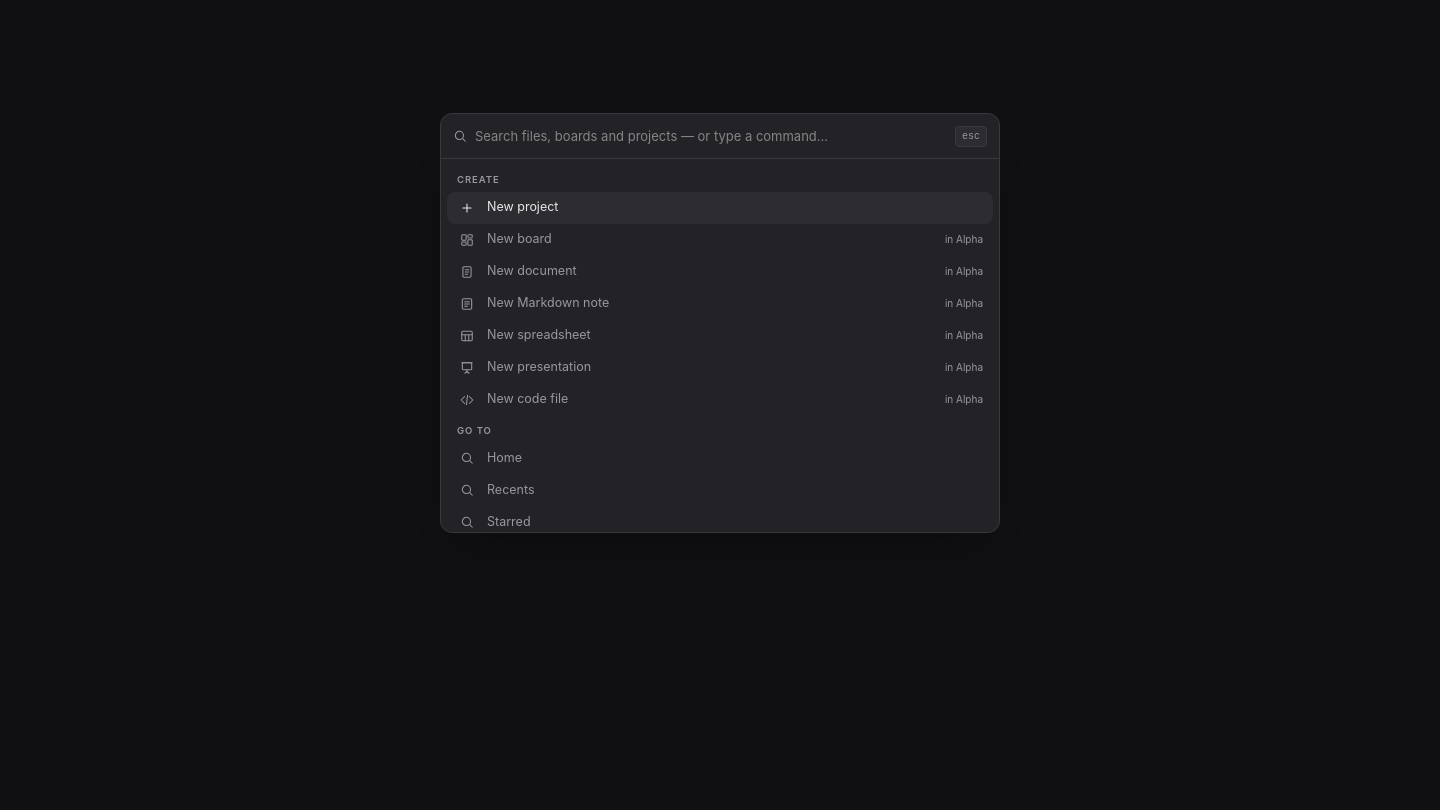
it: search is global › names the project each result lives in
The image size is (1440, 810).
Type "budget there" into the field at (711, 136), box [475,114,947,158]
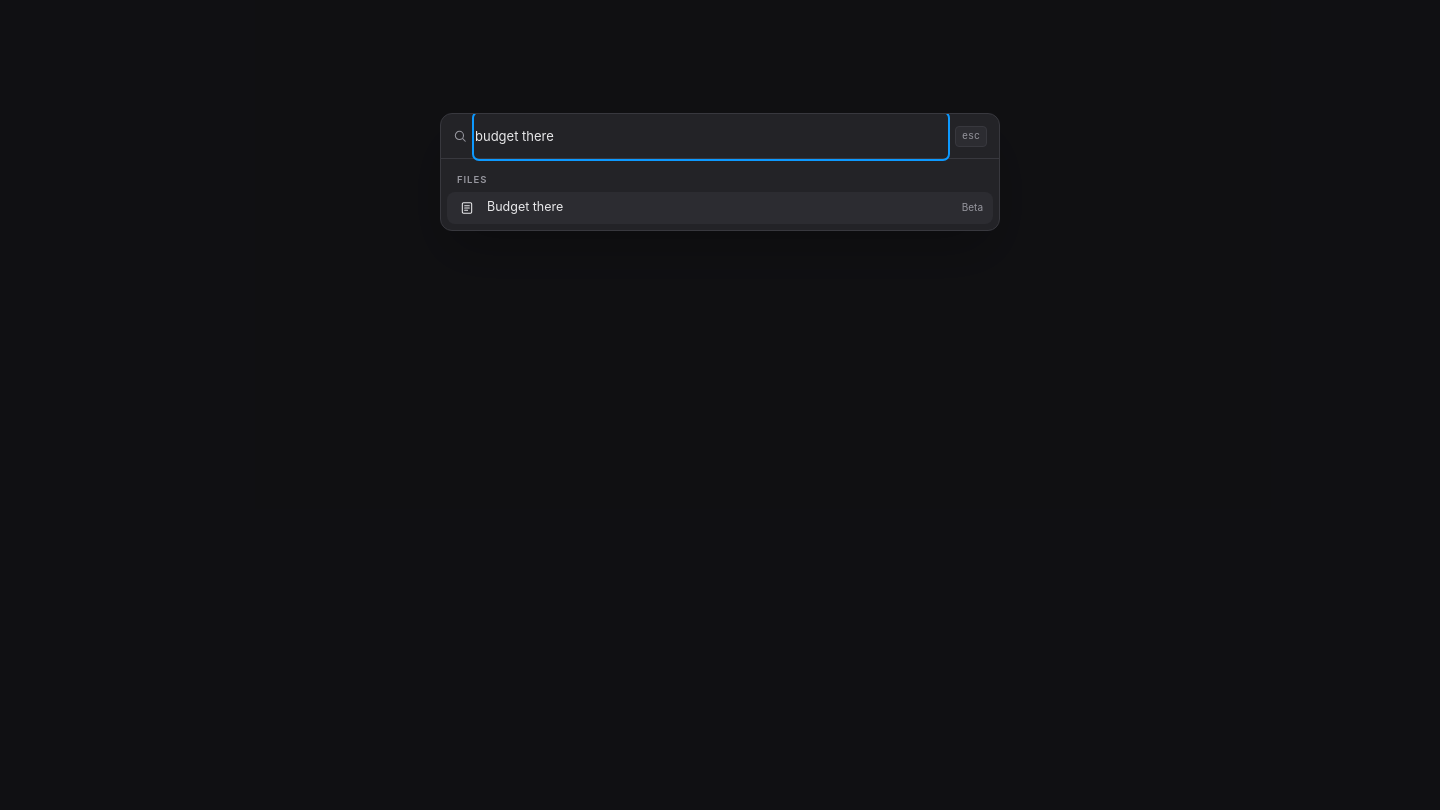
Check: the option "Budget there Beta" is shown, box [447,192,993,224]
